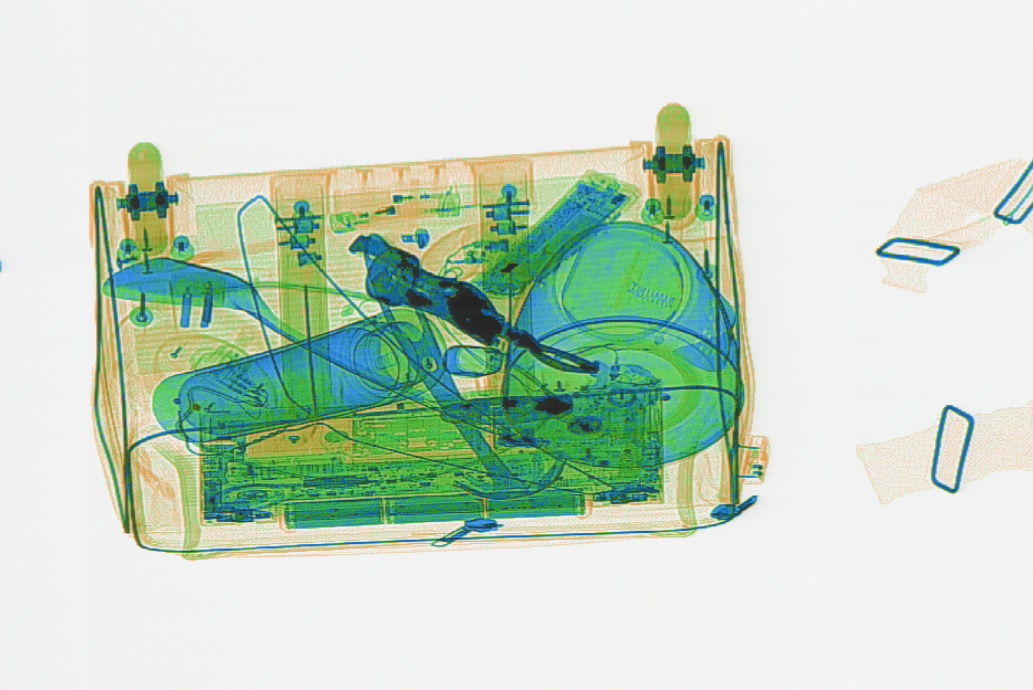lighter: (325, 197, 458, 234), (332, 186, 461, 222)
